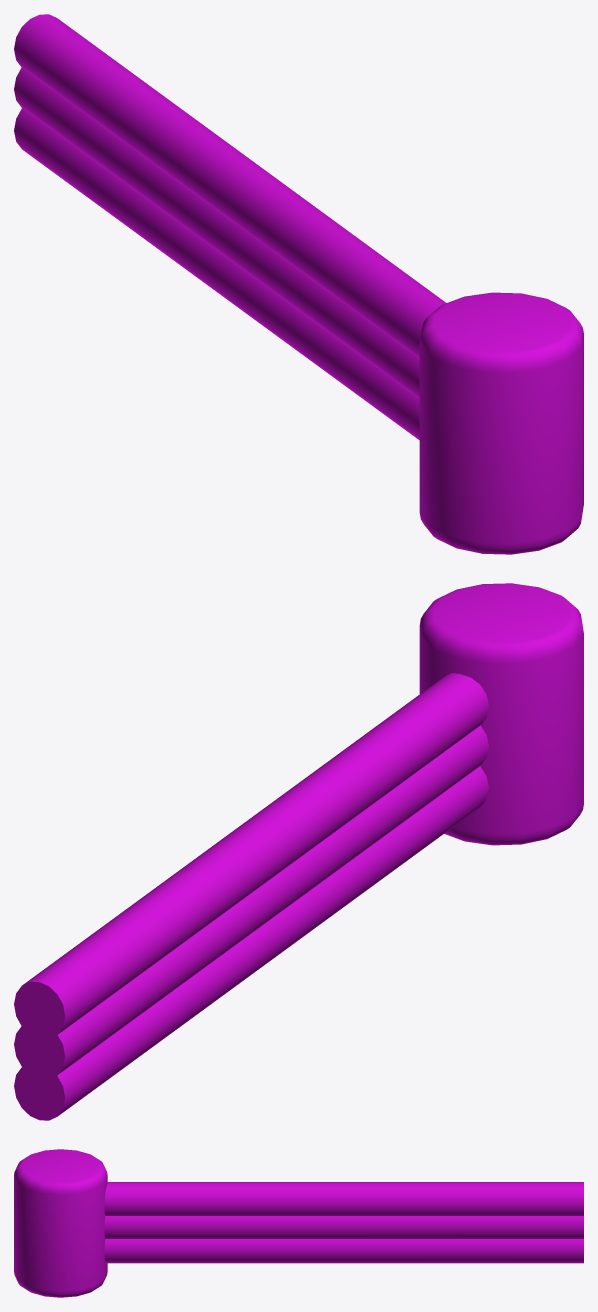
Rendered from cylinder_Purple2.fbx.
The picture shows the model from 3 angles, top to bottom: view 1: azimuth 30°, elevation 25°; view 2: azimuth 150°, elevation 25°; view 3: azimuth 270°, elevation 25°; orthographic projection. The views are drawn at different scales.
Visible parts, largest first — view 1: Cylinder.028; view 2: Cylinder.028; view 3: Cylinder.028.
Boxes of the visible parts, x1,y1,x2,y2 form: Cylinder.028: (14, 14, 583, 554); Cylinder.028: (14, 583, 583, 1120); Cylinder.028: (14, 1149, 583, 1297).
Size of the model in its own units: 1.28 by 7.79 by 1.72.
